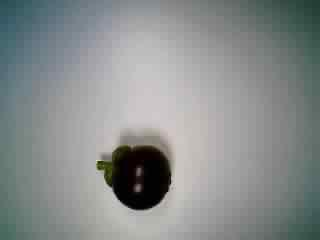mangosteen: (91, 132, 172, 217)
